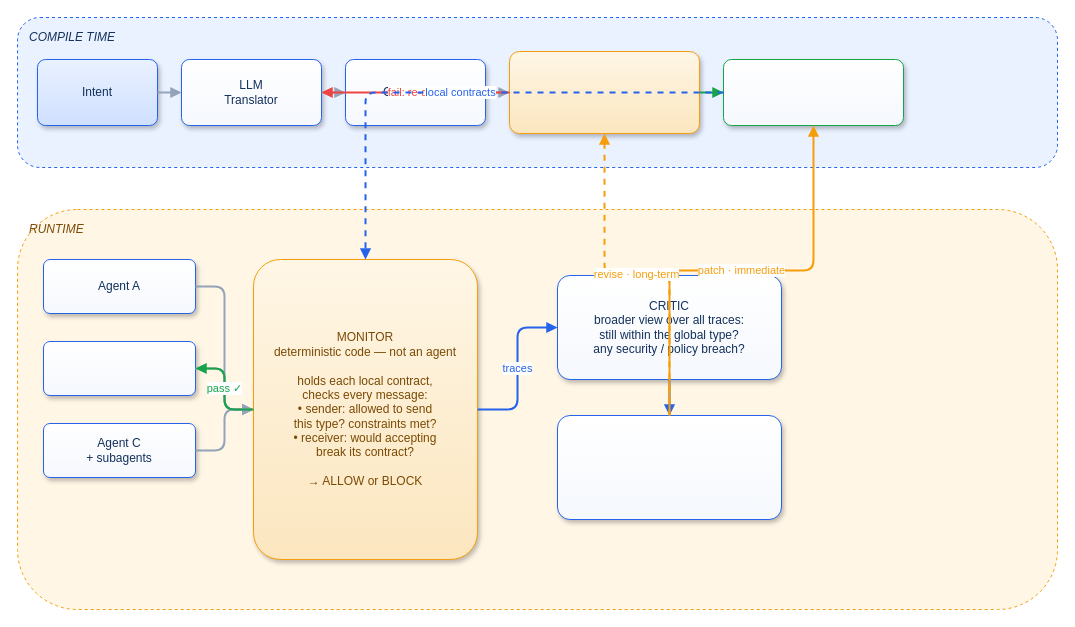
Some shapes in this 1075 by 627 pixel diagram are drawn without their labels. Here are the shapes that lost their labels. From the top down, the centre of each, then its label:
pixel 605 93: CHECKER · Scribble validates global type against MPST rules
pixel 814 93: Local contracts projected per agent
pixel 120 369: Agent B
pixel 670 468: REVISOR when flagged, revises the protocol / contract — fix the rails by design
